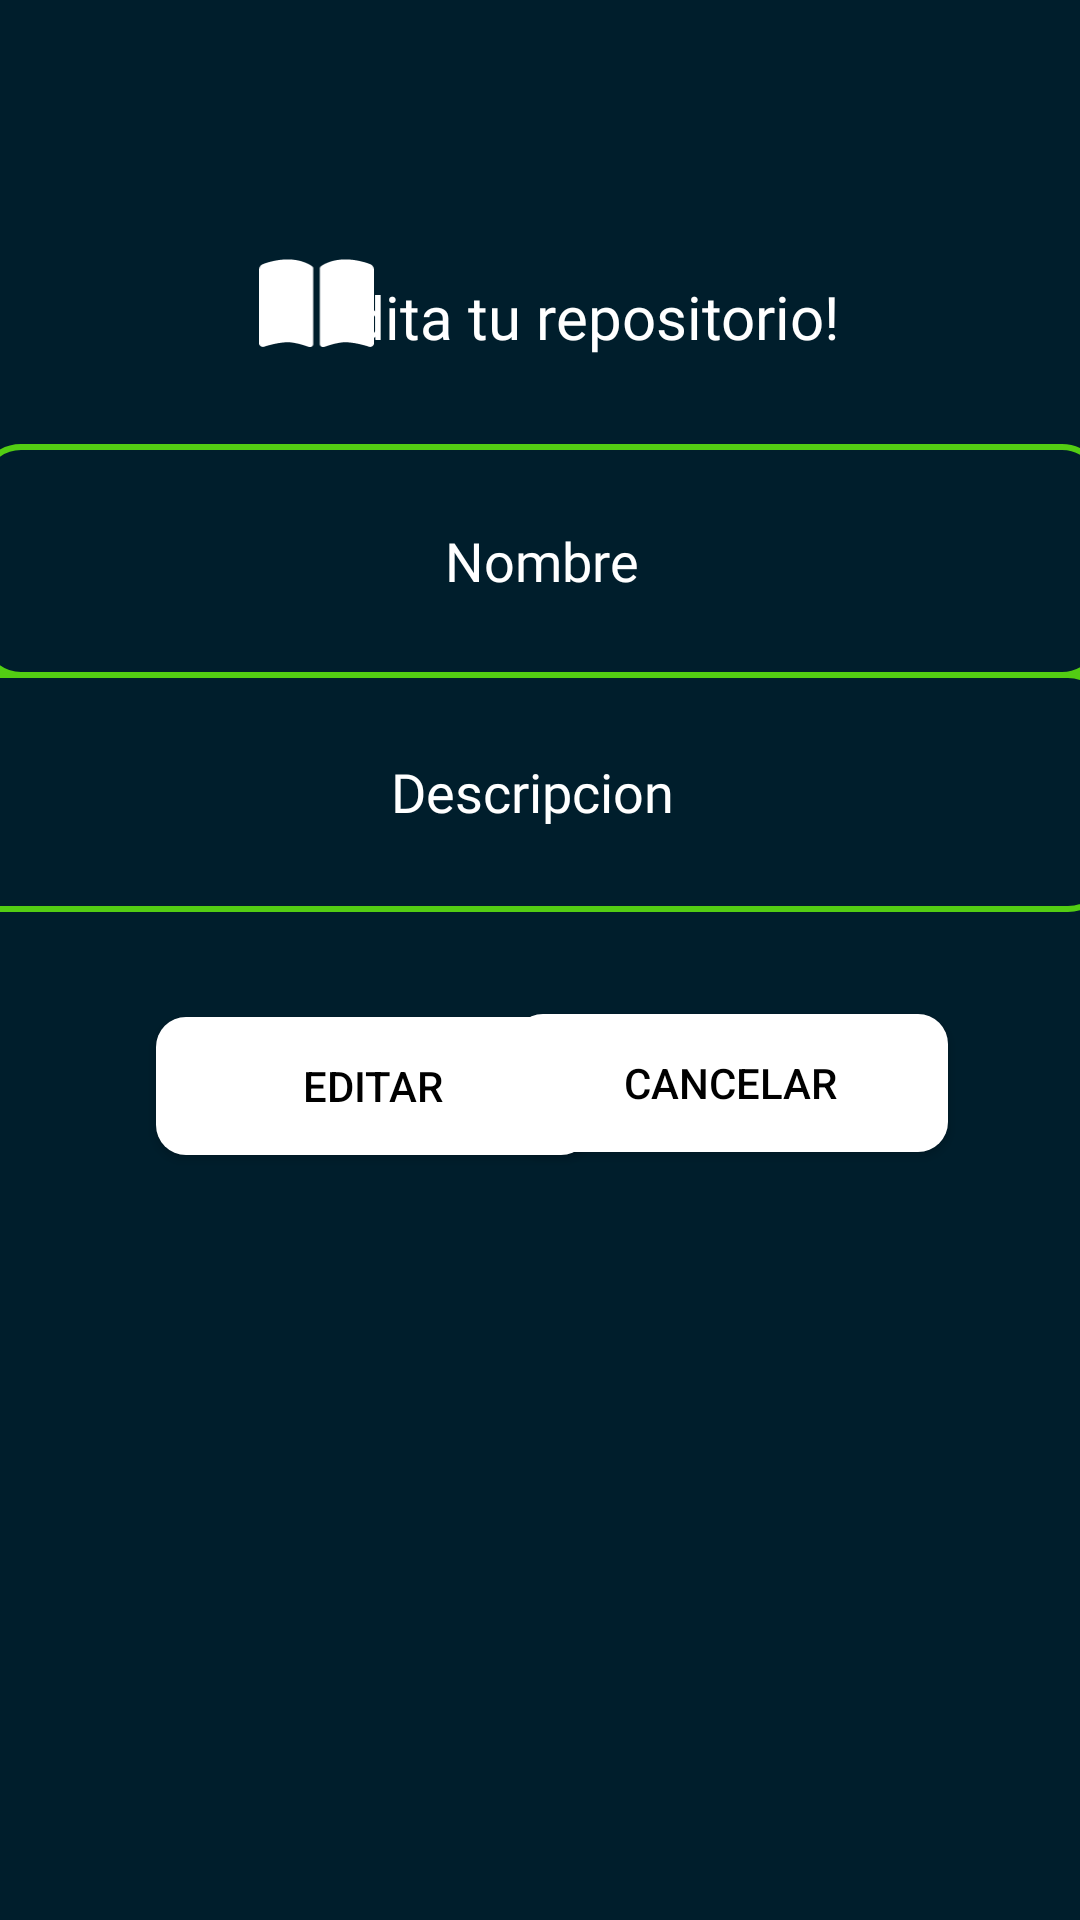

Where icons sit on this 1080px x 1920px app screen, as (x1, y1, x2, y2):
book: (259, 259, 381, 347)
